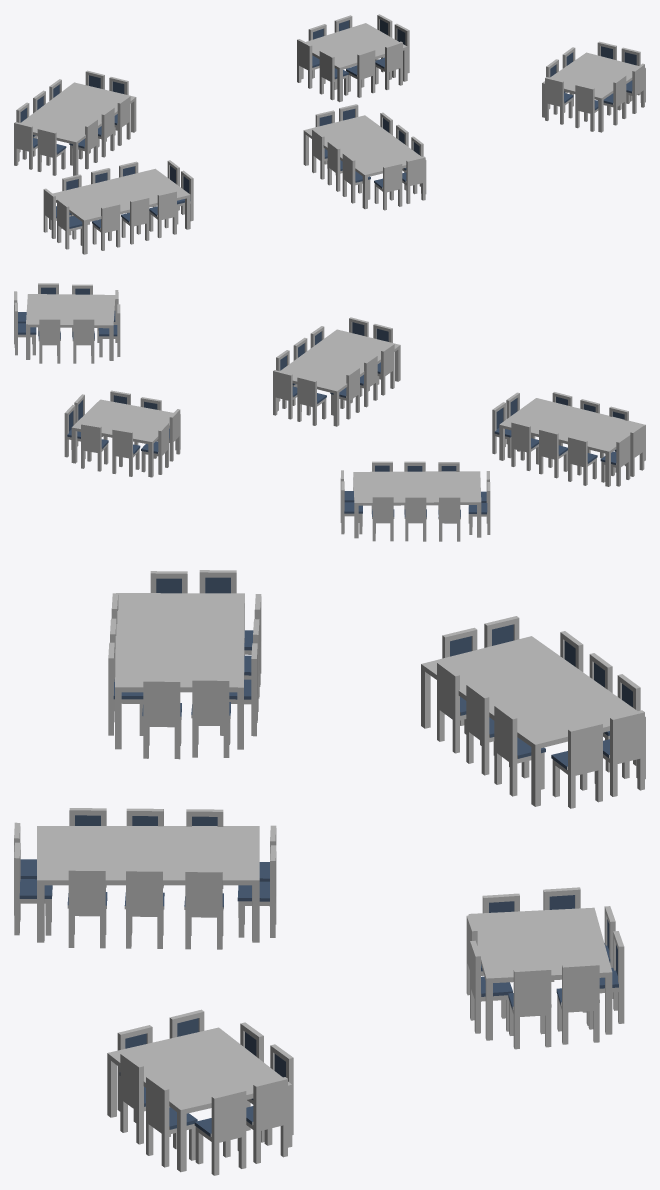
File: forum_tables.fbx
3 views of the same model, one above another, from view 1: azimuth 30°, elevation 25°; view 2: azimuth 150°, elevation 25°; view 3: azimuth 270°, elevation 25° (orthographic). The views are drawn at different scales.
Parts seen in each view (by area): view 1: TableChairGroup.003, TableChairGroup.002, TableChairGroup.001, TableChairGroup.004, TableChairGroup.005; view 2: TableChairGroup.003, TableChairGroup.001, TableChairGroup.002, TableChairGroup.004, TableChairGroup.005; view 3: TableChairGroup.002, TableChairGroup.001, TableChairGroup.003, TableChairGroup.005, TableChairGroup.004.
Part boxes in pixels (x1=…): TableChairGroup.003: x1=43, y1=160, x2=193, y2=254; TableChairGroup.002: x1=14, y1=70, x2=136, y2=175; TableChairGroup.001: x1=303, y1=104, x2=426, y2=210; TableChairGroup.004: x1=297, y1=14, x2=409, y2=102; TableChairGroup.005: x1=542, y1=41, x2=645, y2=132; TableChairGroup.003: x1=492, y1=392, x2=645, y2=486; TableChairGroup.001: x1=273, y1=317, x2=400, y2=426; TableChairGroup.002: x1=340, y1=461, x2=490, y2=541; TableChairGroup.004: x1=64, y1=390, x2=180, y2=477; TableChairGroup.005: x1=14, y1=283, x2=120, y2=363; TableChairGroup.002: x1=421, y1=616, x2=645, y2=808; TableChairGroup.001: x1=14, y1=808, x2=276, y2=949; TableChairGroup.003: x1=108, y1=570, x2=261, y2=759; TableChairGroup.005: x1=107, y1=1009, x2=293, y2=1175; TableChairGroup.004: x1=466, y1=887, x2=624, y2=1049.
Bounding box in the file's own units: 11.11 × 0.8556 × 5.66.
